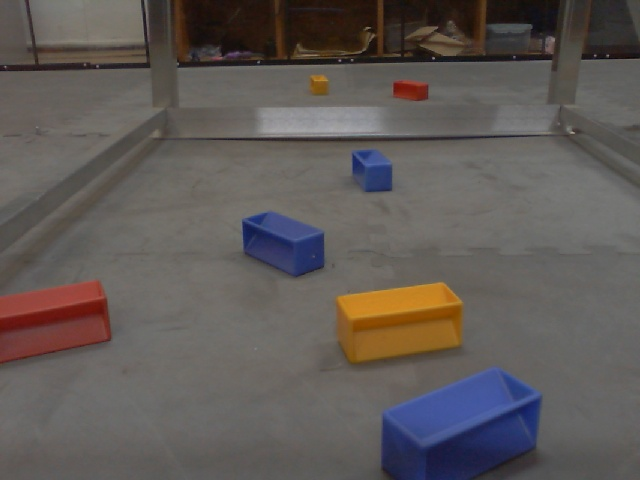BlueSample: (377, 364, 541, 480), (239, 208, 327, 281), (351, 147, 395, 197)
RedSample: (1, 276, 114, 364), (390, 79, 431, 102)
YellowSample: (333, 280, 466, 368), (307, 73, 331, 97)
